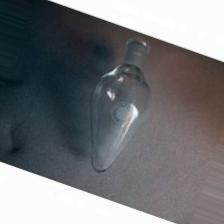Pear shaped flask: (91, 35, 156, 172)
